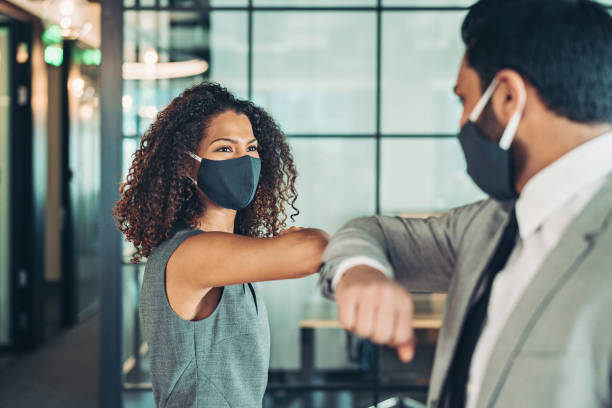with mask: (439, 38, 545, 200), (199, 109, 276, 212)
